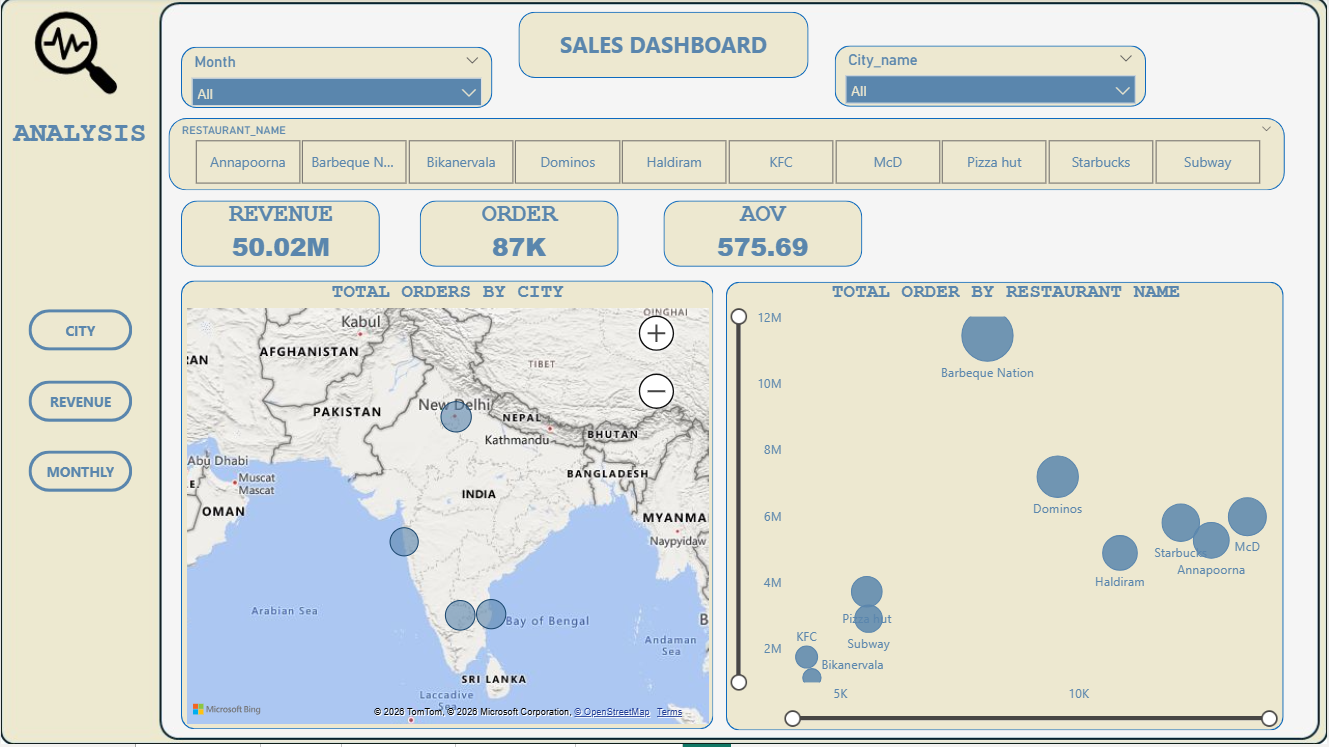

The page's visual inventory and layout, read from the dashboard file:
{"tool":"powerbi","page":{"name":"SUMMARY","canvas":[1280,720],"ordinal":0},"visuals":[{"type":"shape","box":[499.5,13.3,279.9,63.9],"z":0},{"type":"textbox","box":[499.5,25.3,279.9,62.7],"z":1000},{"type":"shape","box":[173.7,47.1,300.4,59.1],"z":2000},{"type":"shape","box":[804.7,45.8,300.4,59.1],"z":3000},{"type":"slicer","fields":{"Values":["SALES DATA.DATE_.Variation.Date Hierarchy.Month"]},"box":[173.7,48.3,300.4,59.1],"z":4000},{"type":"slicer","fields":{"Values":["SALES DATA.City_name"]},"box":[804.7,45.8,300.4,59.1],"z":5000},{"type":"shape","box":[161.7,115.8,1077.4,70],"z":6000},{"type":"slicer","fields":{"Values":["SALES DATA.RESTAURANT_NAME"]},"box":[161.7,115.8,1077.4,70],"z":7000},{"type":"actionButton","box":[26.5,300.4,100.1,39.8],"z":9000},{"type":"actionButton","box":[26.5,369.2,100.1,39.8],"z":10000},{"type":"actionButton","box":[26.5,436.7,100.1,39.8],"z":11000},{"type":"shape","box":[173.7,195.4,191.8,63.9],"z":12000},{"type":"shape","box":[404.2,195.4,191.8,63.9],"z":13000},{"type":"shape","box":[639.4,195.4,191.8,63.9],"z":14000},{"type":"shape","box":[173.7,272.7,513.9,433.1],"z":15000},{"type":"shape","box":[699.7,273.9,538.1,433.1],"z":16000},{"type":"card","title":"REVENUE","fields":{"Values":["MEASURES (2).REVENUE"]},"box":[174.9,195.4,190.6,63.9],"z":17000},{"type":"card","title":"ORDER","fields":{"Values":["MEASURES (2).ORDERS"]},"box":[404.2,195.4,191.8,63.9],"z":18000},{"type":"card","title":"AOV","fields":{"Values":["MEASURES (2).AOV"]},"box":[639.4,195.4,191.8,63.9],"z":19000},{"type":"map","title":"TOTAL ORDERS BY CITY","fields":{"Category":["SALES DATA.City_name"],"Size":["MEASURES (2).ORDERS"]},"box":[174.9,273.9,512.7,431.9],"z":20000},{"type":"scatterChart","title":"TOTAL ORDER BY RESTAURANT NAME","fields":{"Category":["SALES DATA.RESTAURANT_NAME"],"X":["MEASURES (2).ORDERS"],"Size":["MEASURES (2).REVENUE"],"Y":["MEASURES (2).REVENUE"]},"box":[700.9,273.9,538.1,431.9],"z":21000},{"type":"textbox","box":[0,111,152,48.3],"z":22000}]}

Visuals, with their boxes in screenshot pixels (x1, y1, x2, y2), scaled from the page's 1280x720 canvas onto the 1329x747 screenshot:
shape: [519, 14, 809, 80]
textbox: [519, 26, 809, 91]
shape: [180, 49, 492, 110]
shape: [836, 48, 1147, 109]
slicer - SALES DATA.DATE_.Variation.Date Hierarchy.Month: [180, 50, 492, 111]
slicer - SALES DATA.City_name: [836, 48, 1147, 109]
shape: [168, 120, 1287, 193]
slicer - SALES DATA.RESTAURANT_NAME: [168, 120, 1287, 193]
actionButton: [28, 312, 131, 353]
actionButton: [28, 383, 131, 424]
actionButton: [28, 453, 131, 494]
shape: [180, 203, 379, 269]
shape: [420, 203, 619, 269]
shape: [664, 203, 863, 269]
shape: [180, 283, 714, 732]
shape: [726, 284, 1285, 734]
"REVENUE" card: [182, 203, 379, 269]
"ORDER" card: [420, 203, 619, 269]
"AOV" card: [664, 203, 863, 269]
"TOTAL ORDERS BY CITY" map: [182, 284, 714, 732]
"TOTAL ORDER BY RESTAURANT NAME" scatterChart: [728, 284, 1286, 732]
textbox: [0, 115, 158, 165]
